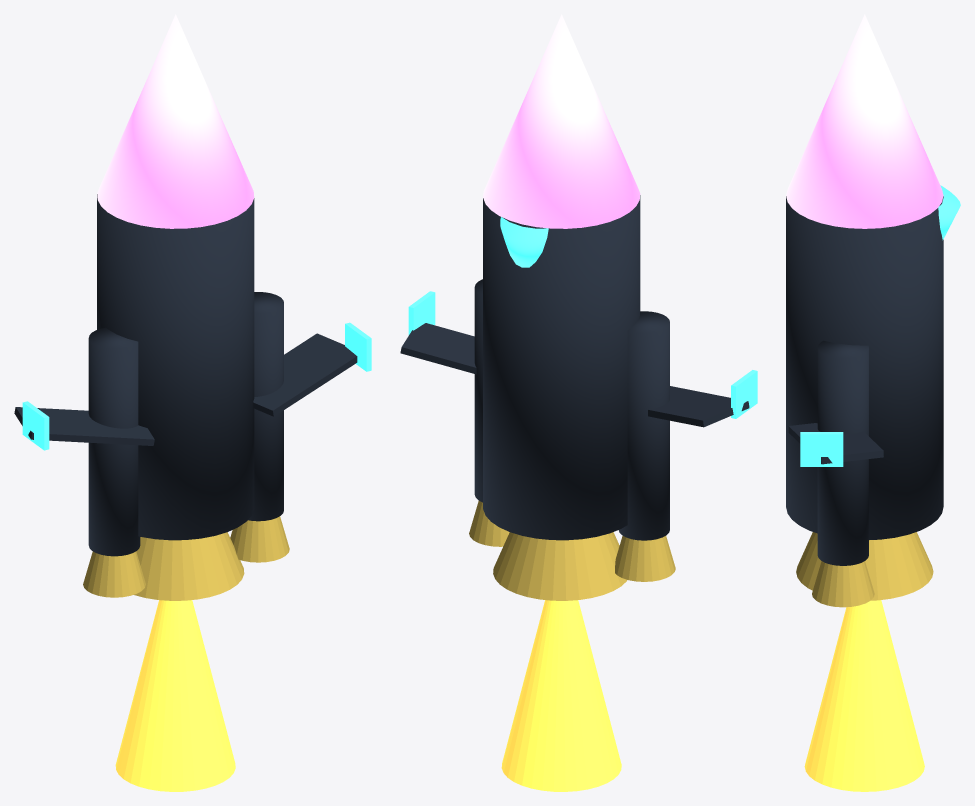
The model's file is rocket.glb.
3 views of the same model, side by side, from view 1: azimuth 30°, elevation 25°; view 2: azimuth 150°, elevation 25°; view 3: azimuth 270°, elevation 25° (orthographic).
Visible parts, largest first — view 1: CypherRocket_Master, Rocket_NoseCone, Rocket_PlasmaFlame, Booster_R, Booster_L, Rocket_MainNozzle, Rocket_Wing_L, Rocket_Wing_R, Booster_Nozzle_R, Booster_Nozzle_L, Rocket_Wing_R_Tip, Rocket_Wing_L_Tip; view 2: CypherRocket_Master, Rocket_NoseCone, Rocket_PlasmaFlame, Booster_R, Rocket_MainNozzle, Rocket_Wing_L, Booster_Nozzle_R, Rocket_Wing_R, Booster_L, Rocket_CockpitVisor, Booster_Nozzle_L, Rocket_Wing_R_Tip (+1 smaller); view 3: CypherRocket_Master, Rocket_NoseCone, Rocket_PlasmaFlame, Booster_L, Rocket_MainNozzle, Booster_Nozzle_L, Rocket_Wing_L_Tip, Rocket_Wing_L, Rocket_CockpitVisor.
Part boxes in pixels (bbox=[...]): CypherRocket_Master: bbox=[97, 194, 254, 540]; Rocket_NoseCone: bbox=[97, 14, 254, 228]; Rocket_PlasmaFlame: bbox=[115, 600, 235, 791]; Booster_R: bbox=[88, 327, 140, 556]; Booster_L: bbox=[248, 292, 283, 521]; Rocket_MainNozzle: bbox=[134, 532, 244, 600]; Rocket_Wing_L: bbox=[253, 333, 357, 416]; Rocket_Wing_R: bbox=[14, 407, 154, 445]; Booster_Nozzle_R: bbox=[83, 551, 145, 597]; Booster_Nozzle_L: bbox=[230, 516, 289, 562]; Rocket_Wing_R_Tip: bbox=[22, 401, 49, 450]; Rocket_Wing_L_Tip: bbox=[345, 322, 371, 371]; CypherRocket_Master: bbox=[483, 195, 640, 540]; Rocket_NoseCone: bbox=[483, 14, 640, 228]; Rocket_PlasmaFlame: bbox=[501, 600, 621, 791]; Booster_R: bbox=[618, 311, 669, 540]; Rocket_MainNozzle: bbox=[493, 532, 627, 600]; Rocket_Wing_L: bbox=[400, 323, 476, 374]; Booster_Nozzle_R: bbox=[615, 536, 675, 581]; Rocket_Wing_R: bbox=[648, 386, 749, 427]; Booster_L: bbox=[474, 279, 482, 502]; Rocket_CockpitVisor: bbox=[500, 217, 548, 267]; Booster_Nozzle_L: bbox=[469, 500, 509, 546]; Rocket_Wing_R_Tip: bbox=[731, 370, 757, 418]; CypherRocket_Master: bbox=[786, 196, 943, 539]; Rocket_NoseCone: bbox=[786, 14, 943, 228]; Rocket_PlasmaFlame: bbox=[804, 600, 924, 791]; Booster_L: bbox=[817, 340, 868, 565]; Rocket_MainNozzle: bbox=[796, 532, 933, 600]; Booster_Nozzle_L: bbox=[812, 561, 874, 607]; Rocket_Wing_L_Tip: bbox=[800, 432, 843, 466]; Rocket_Wing_L: bbox=[788, 423, 883, 464]; Rocket_CockpitVisor: bbox=[938, 185, 960, 240].
Size of the model in its own units: 2.68 by 5.8 by 1.22.
